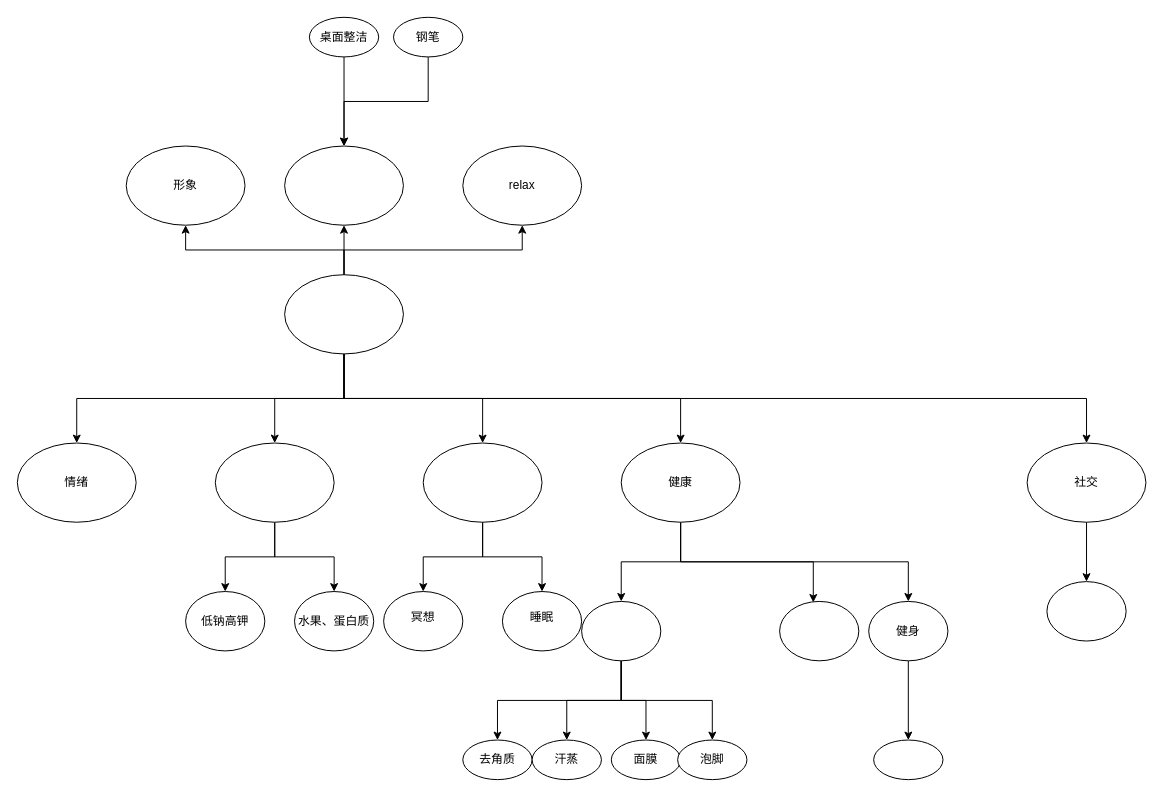
Some shapes in this 1163 by 797 pixel diagram are drawn without their labels. The shapes that lost their labels are listed below. From the top down, each one's centre as x and y in pixels, then its label:
the point at 343,185: 专注
the point at 343,314: 能量
the point at 274,482: 饮食
the point at 482,482: 作息
the point at 621,630: 皮肤
the point at 819,630: 血压
the point at 1086,611: 亲近自然
the point at 908,759: 体重
